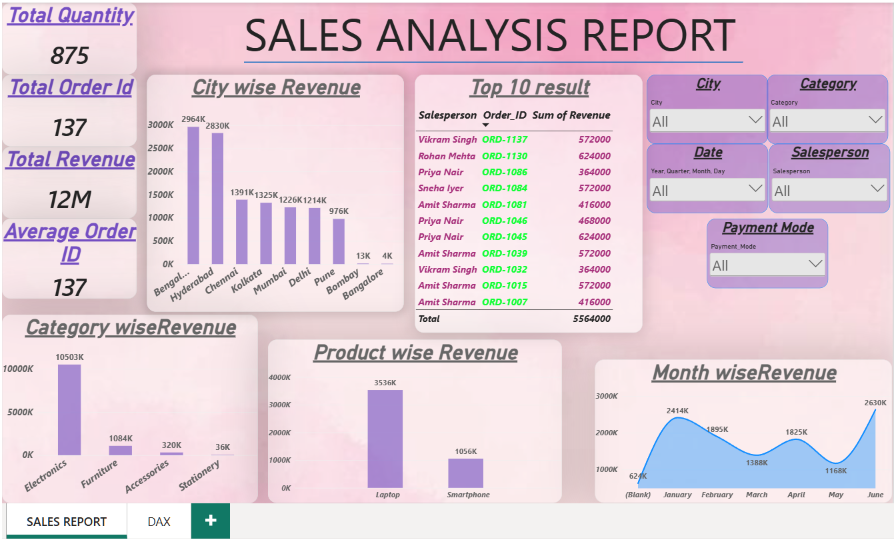

The dashboard page shown, as its layout file describes it:
{"tool":"powerbi","page":{"name":"SALES REPORT","canvas":[1920,1080],"ordinal":0},"visuals":[{"type":"cardVisual","title":"Total Revenue","fields":{"Data":["Sum(processed_sales_data.Revenue)"]},"box":[0,311.2,290.7,154.4],"z":0},{"type":"cardVisual","title":"Total Order Id","fields":{"Data":["CountNonNull(processed_sales_data.Order_ID)"]},"box":[0,154.4,290.7,154.4],"z":1000},{"type":"cardVisual","title":"Total Quantity","fields":{"Data":["Sum(processed_sales_data.Quantity)"]},"box":[0,0,290.7,154.4],"z":2000},{"type":"cardVisual","title":"Average Order ID","fields":{"Data":["Count(processed_sales_data.Order_ID)"]},"box":[0,465.6,290.7,172.6],"z":3000},{"type":"clusteredColumnChart","title":"Category wiseRevenue","fields":{"Y":["Sum(processed_sales_data.Revenue)"],"Category":["processed_sales_data.Category"]},"box":[0,672.3,551.9,406.6],"z":4000},{"type":"clusteredColumnChart","title":"City wise Revenue","fields":{"Y":["Sum(processed_sales_data.Revenue)"],"Category":["processed_sales_data.City"]},"box":[312.8,155.3,554.2,511],"z":5000},{"type":"lineChart","title":"Month wiseRevenue","fields":{"Category":["processed_sales_data.Order_Date.Variation.Date Hierarchy.Month"],"Y":["Sum(processed_sales_data.Revenue)"]},"box":[1278.7,770,640.5,308.9],"z":6000},{"type":"clusteredColumnChart","title":"Product wise Revenue","fields":{"Category":["processed_sales_data.Product"],"Y":["Sum(processed_sales_data.Revenue)"]},"box":[574.6,726.8,633.7,352.1],"z":7000},{"type":"tableEx","title":"Top 10 result","fields":{"Values":["processed_sales_data.Salesperson","processed_sales_data.Order_ID","Sum(processed_sales_data.Revenue)"]},"box":[890.9,155.3,490.6,556.5],"z":8000},{"type":"slicer","title":"City","fields":{"Values":["processed_sales_data.City"]},"box":[1391.1,154.4,261.2,149.9],"z":9000},{"type":"slicer","title":"Date","fields":{"Values":["processed_sales_data.Order_Date.Variation.Date Hierarchy.Year","processed_sales_data.Order_Date.Variation.Date Hierarchy.Quarter","processed_sales_data.Order_Date.Variation.Date Hierarchy.Month","processed_sales_data.Order_Date.Variation.Date Hierarchy.Day"]},"box":[1391.1,304.4,261.2,149.9],"z":10000},{"type":"slicer","title":"Category","fields":{"Values":["processed_sales_data.Category"]},"box":[1651.2,154.4,261.2,149.9],"z":11000},{"type":"slicer","title":"Salesperson","fields":{"Values":["processed_sales_data.Salesperson"]},"box":[1653.5,304.4,261.2,149.9],"z":12000},{"type":"slicer","title":"Payment Mode","fields":{"Values":["processed_sales_data.Payment_Mode"]},"box":[1521.8,465.6,261.2,149.9],"z":13000},{"type":"textbox","box":[522.4,0,1076.6,129.5],"z":13250},{"type":"shape","box":[522,51.8,1076.4,153.2],"z":13251}]}

Visuals, with their boxes on the page's 1920x1080 design canvas (x1, y1, x2, y2). These are canvas units, not pixel positions in the 896x541 screenshot, which may show the page scaled, cropped or inside an application window:
"Total Revenue" cardVisual: Rect(0, 311, 291, 466)
"Total Order Id" cardVisual: Rect(0, 154, 291, 309)
"Total Quantity" cardVisual: Rect(0, 0, 291, 154)
"Average Order ID" cardVisual: Rect(0, 466, 291, 638)
"Category wiseRevenue" clusteredColumnChart: Rect(0, 672, 552, 1079)
"City wise Revenue" clusteredColumnChart: Rect(313, 155, 867, 666)
"Month wiseRevenue" lineChart: Rect(1279, 770, 1919, 1079)
"Product wise Revenue" clusteredColumnChart: Rect(575, 727, 1208, 1079)
"Top 10 result" tableEx: Rect(891, 155, 1382, 712)
"City" slicer: Rect(1391, 154, 1652, 304)
"Date" slicer: Rect(1391, 304, 1652, 454)
"Category" slicer: Rect(1651, 154, 1912, 304)
"Salesperson" slicer: Rect(1654, 304, 1915, 454)
"Payment Mode" slicer: Rect(1522, 466, 1783, 616)
textbox: Rect(522, 0, 1599, 130)
shape: Rect(522, 52, 1598, 205)
